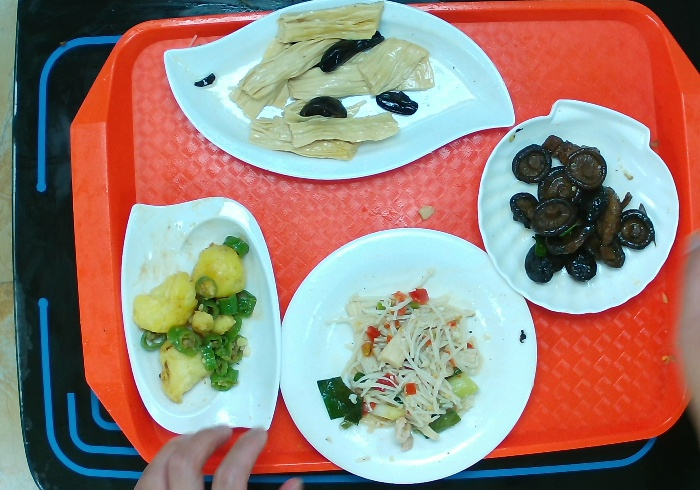RJxy-Bei_Ke_Wan: (476, 97, 681, 315)
RJxy-Jian_Jiao_Fang_Die: (119, 194, 283, 437)
RJxy-Jian_Jiao_Pan: (162, 1, 517, 182)
RJxy-Yuan_Pan: (278, 225, 539, 485)
